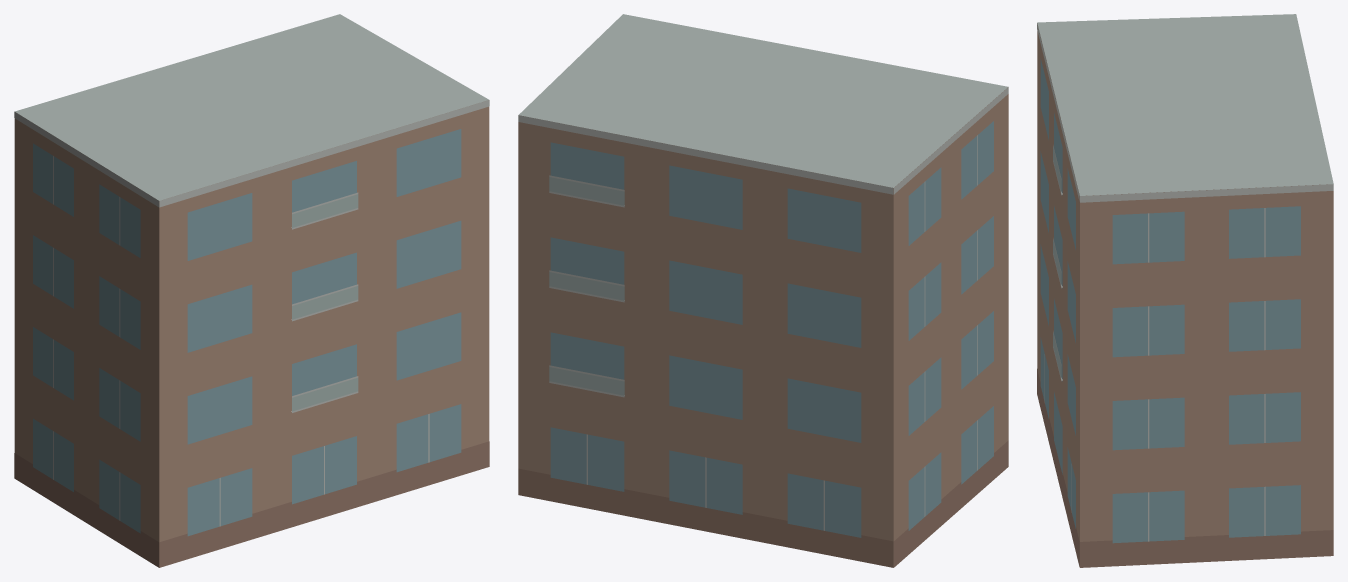
Rendered from survey-upis-33032622.glb.
3 renders of one model, left to right at view 1: azimuth 30°, elevation 25°; view 2: azimuth 150°, elevation 25°; view 3: azimuth 270°, elevation 25°, orthographic. The views are drawn at different scales.
Parts seen in each view (by area): view 1: survey-upis-33032622.tmp; view 2: survey-upis-33032622.tmp; view 3: survey-upis-33032622.tmp.
Part boxes in pixels (bbox=[...]): survey-upis-33032622.tmp: bbox=[14, 14, 489, 567]; survey-upis-33032622.tmp: bbox=[518, 14, 1008, 567]; survey-upis-33032622.tmp: bbox=[1037, 14, 1333, 567].
Size of the model in its own units: 14.18 by 13.5 by 9.77.
